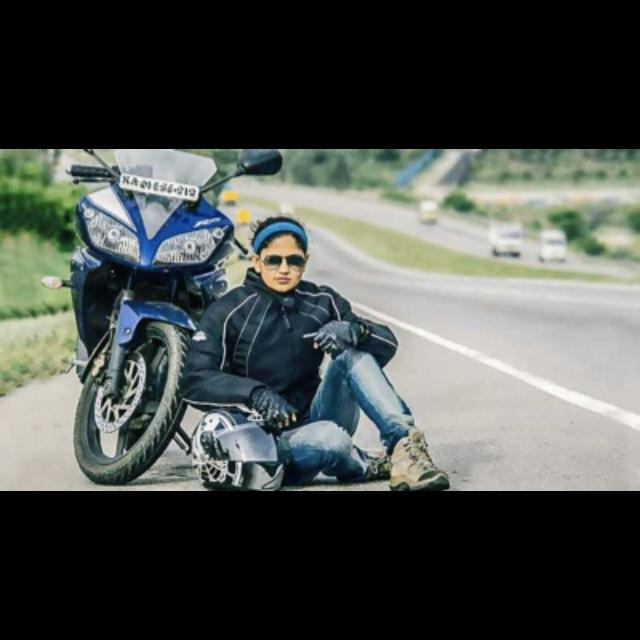Without Helmet: (245, 208, 319, 294)
